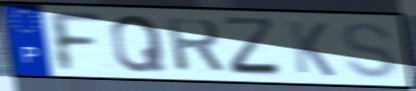F: (43, 8, 107, 74)
K: (286, 18, 337, 79)
Q: (109, 13, 169, 75)
R: (163, 16, 228, 75)
S: (339, 19, 400, 81)
Z: (220, 15, 287, 79)
